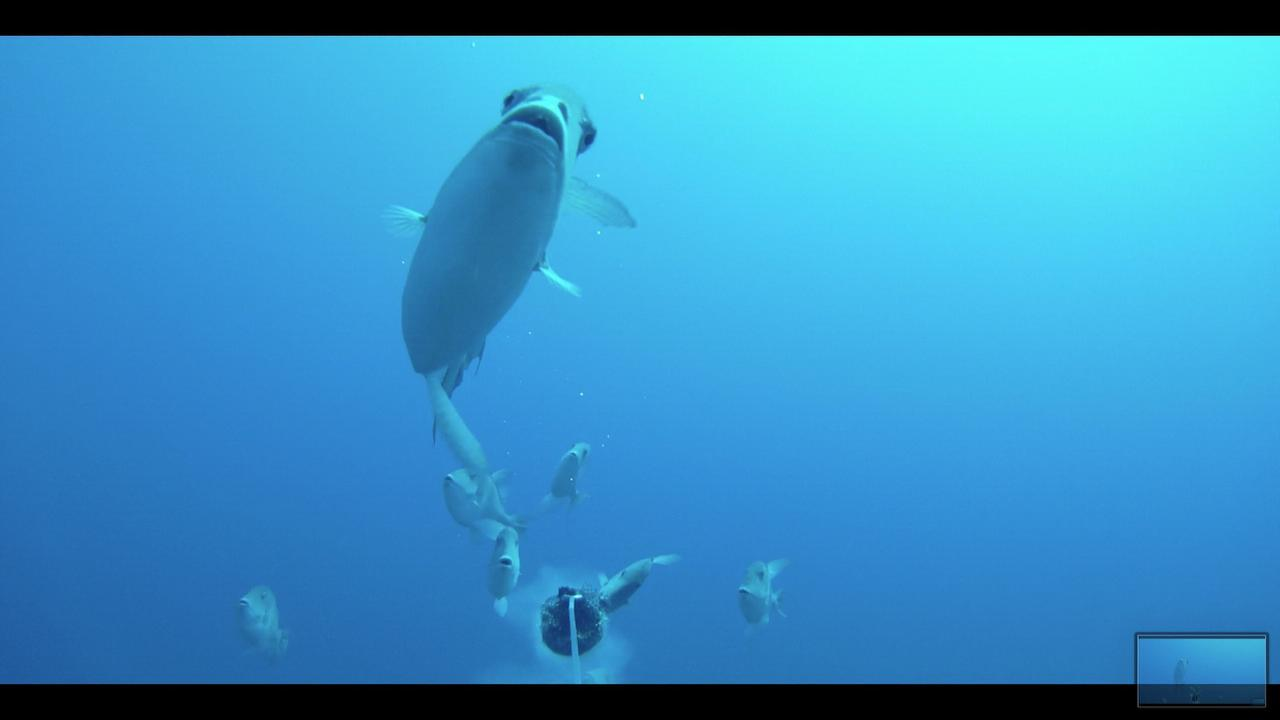balistes: (381, 86, 631, 431), (584, 541, 677, 625), (730, 547, 804, 637), (225, 581, 303, 665), (470, 520, 533, 621), (533, 433, 599, 514), (438, 456, 508, 531)
